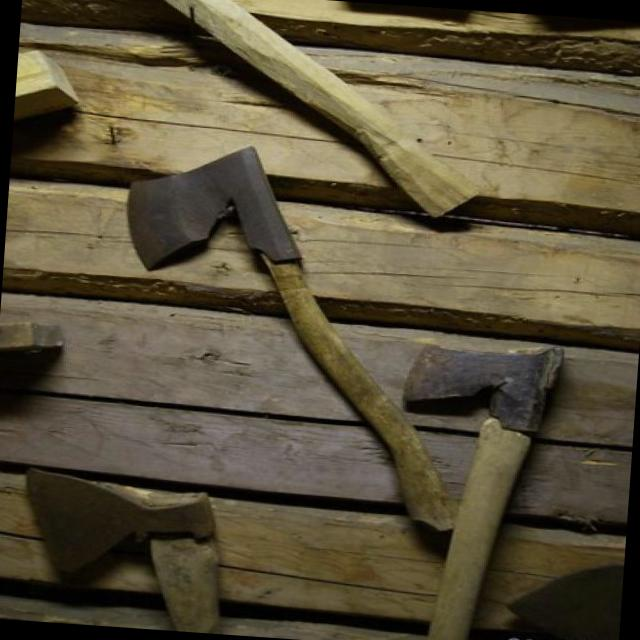Axe: (127, 146, 452, 531), (404, 344, 562, 640)
